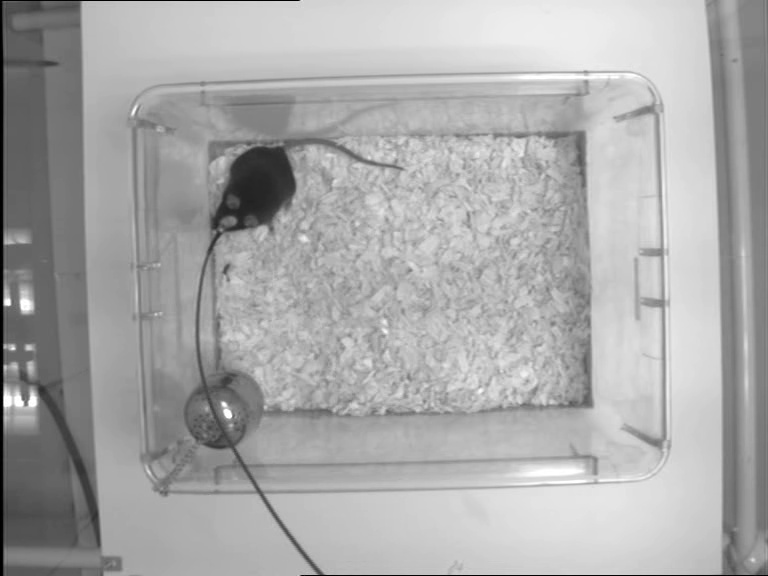mice: (206, 135, 400, 234)
